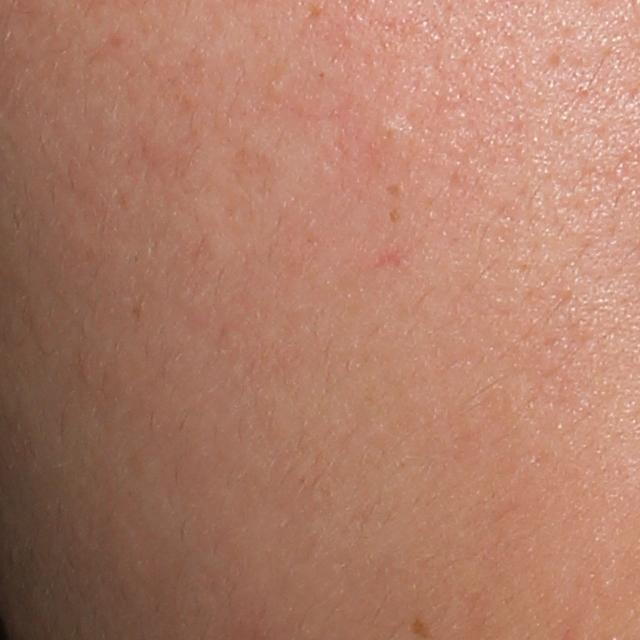comedo: (379, 118, 402, 138)
melasma: (406, 615, 435, 640)
